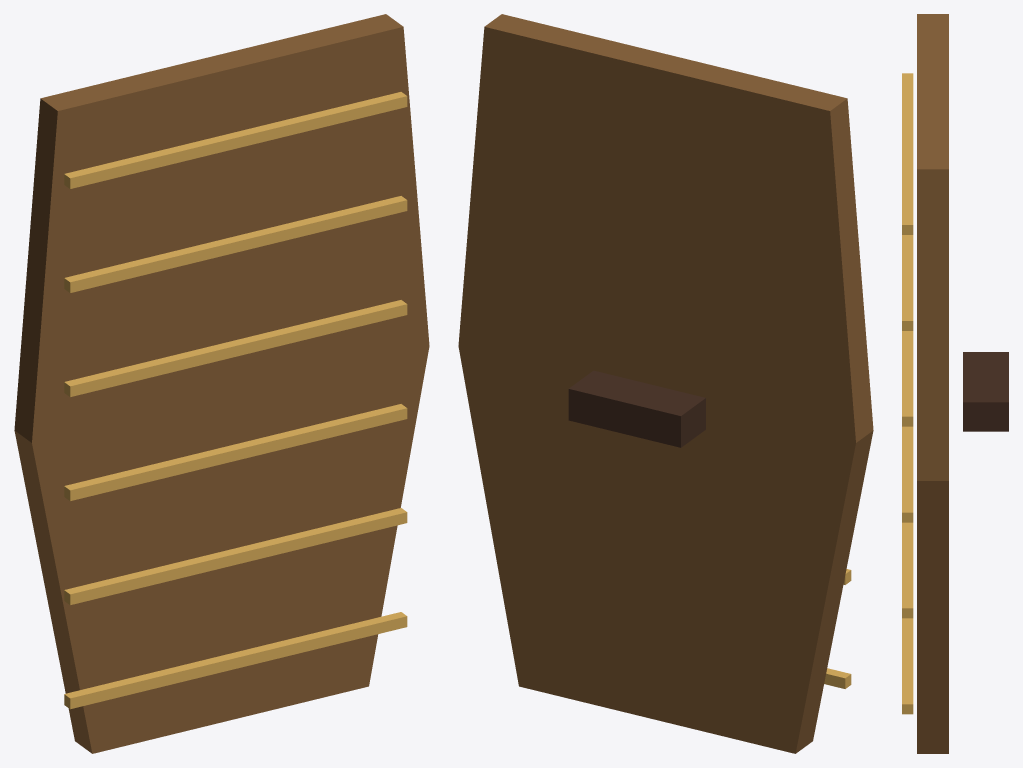
Rendered from celt-shield.glb.
3 views of the same model, side by side, from view 1: azimuth 30°, elevation 25°; view 2: azimuth 150°, elevation 25°; view 3: azimuth 270°, elevation 25° (orthographic). The views are drawn at different scales.
Visible parts, largest first — view 1: Shield, Bands (×6); view 2: Shield, RearGrip; view 3: Shield, Bands (×6), RearGrip.
Part boxes in pixels (x1=…): Shield: x1=14, y1=14, x2=429, y2=753; Bands (×6): x1=64, y1=92, x2=407, y2=709; Shield: x1=458, y1=14, x2=873, y2=753; RearGrip: x1=568, y1=370, x2=705, y2=447; Shield: x1=917, y1=14, x2=948, y2=753; Bands (×6): x1=902, y1=73, x2=913, y2=714; RearGrip: x1=963, y1=352, x2=1008, y2=431.
Size of the model in its own units: 0.46 by 0.72 by 0.116.
